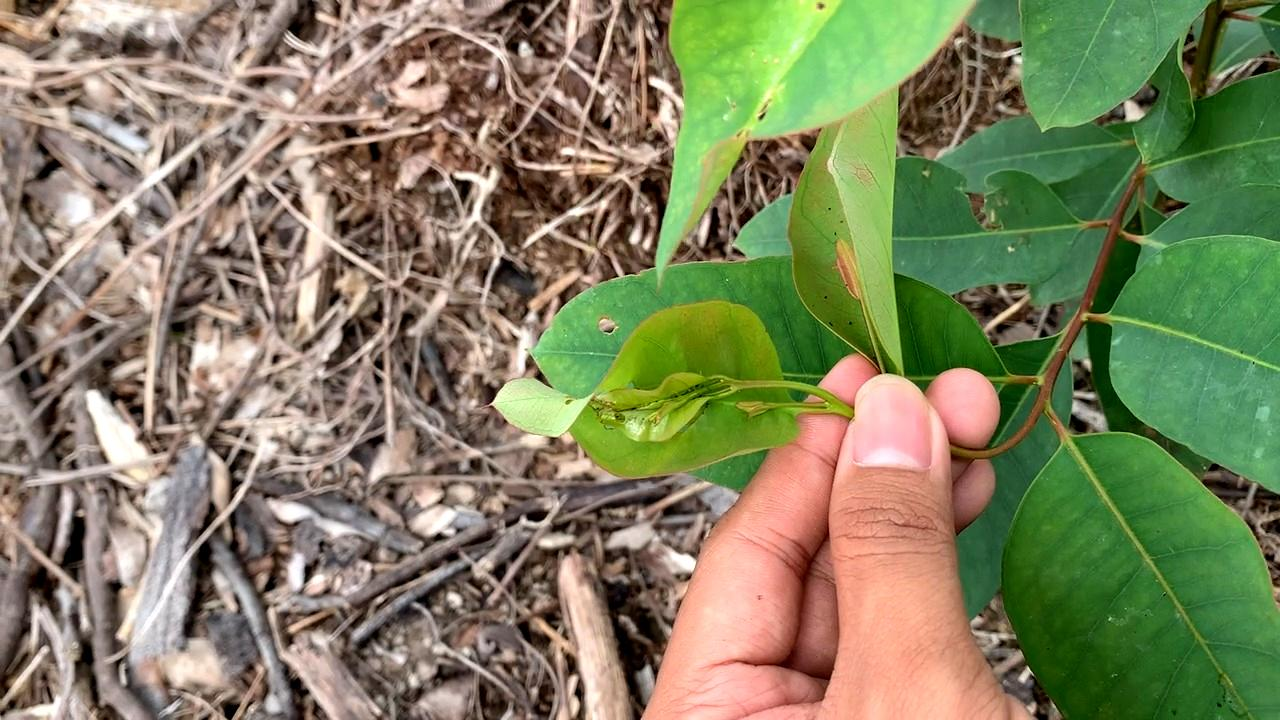Leaf Roller - Leaf: (488, 299, 807, 491)
